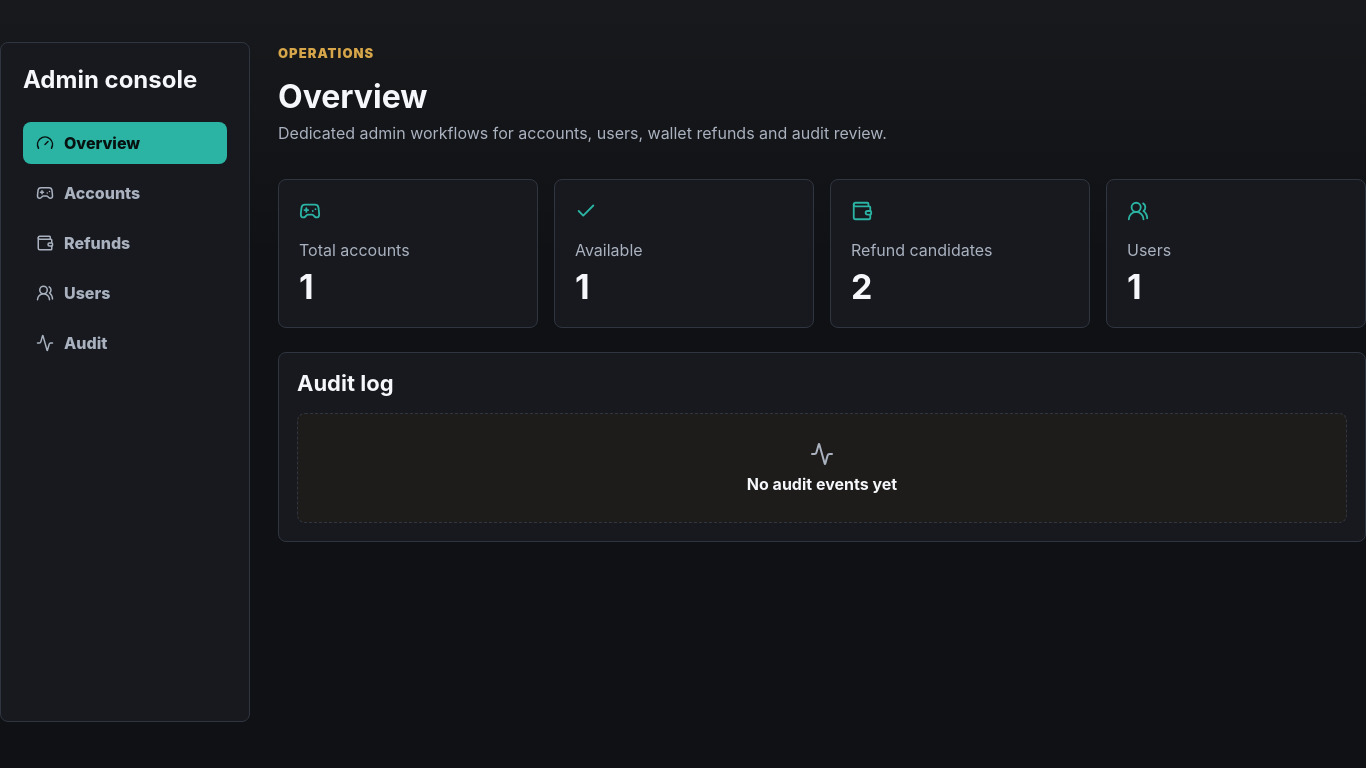
Test case: AdminView wallet refunds › shows detail loading state and clears panel on close
Click the button "Refunds" at coordinates (125, 243), box 23,222 -> 227,264
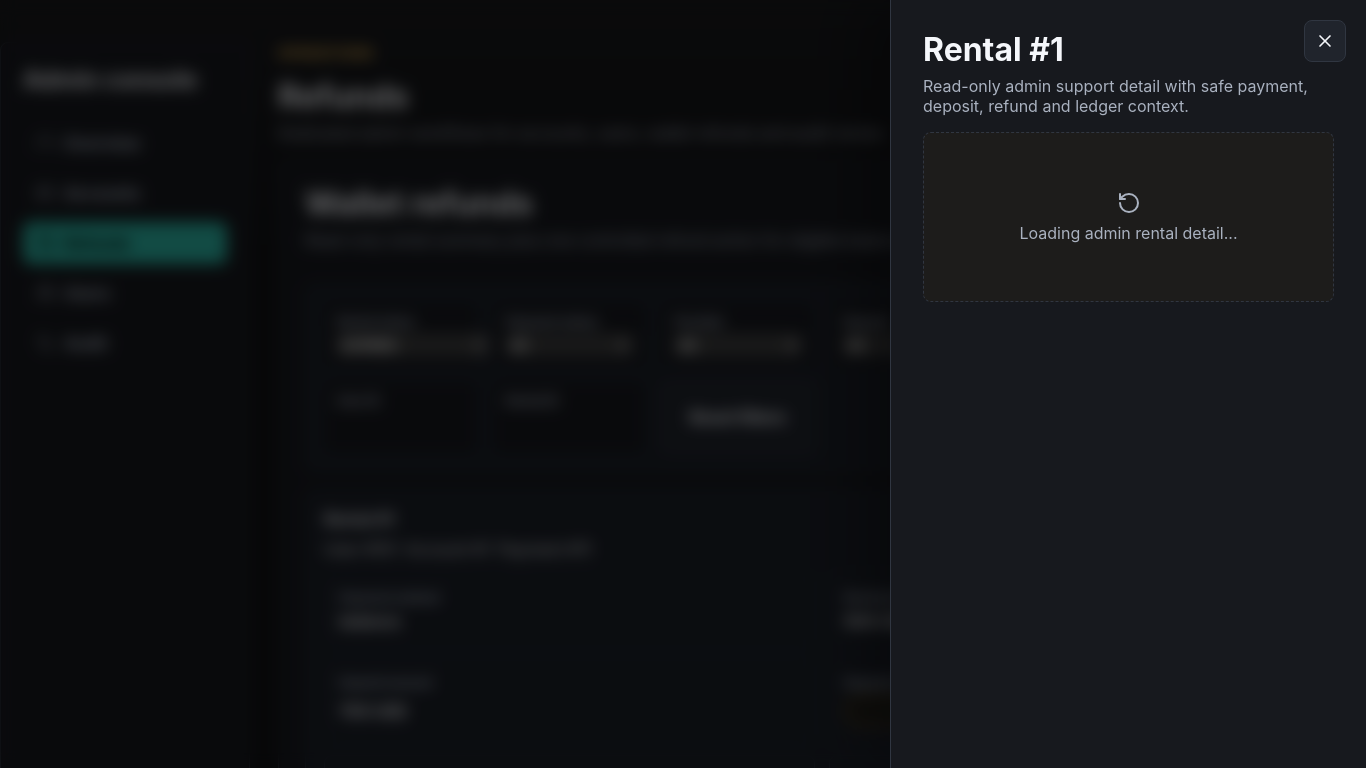
Result: the text "Loading admin rental detail..." is shown at 1020,223 -> 1238,243
Click the button titled "Close detail" at coordinates (1325, 41), box 1304,20 -> 1346,62
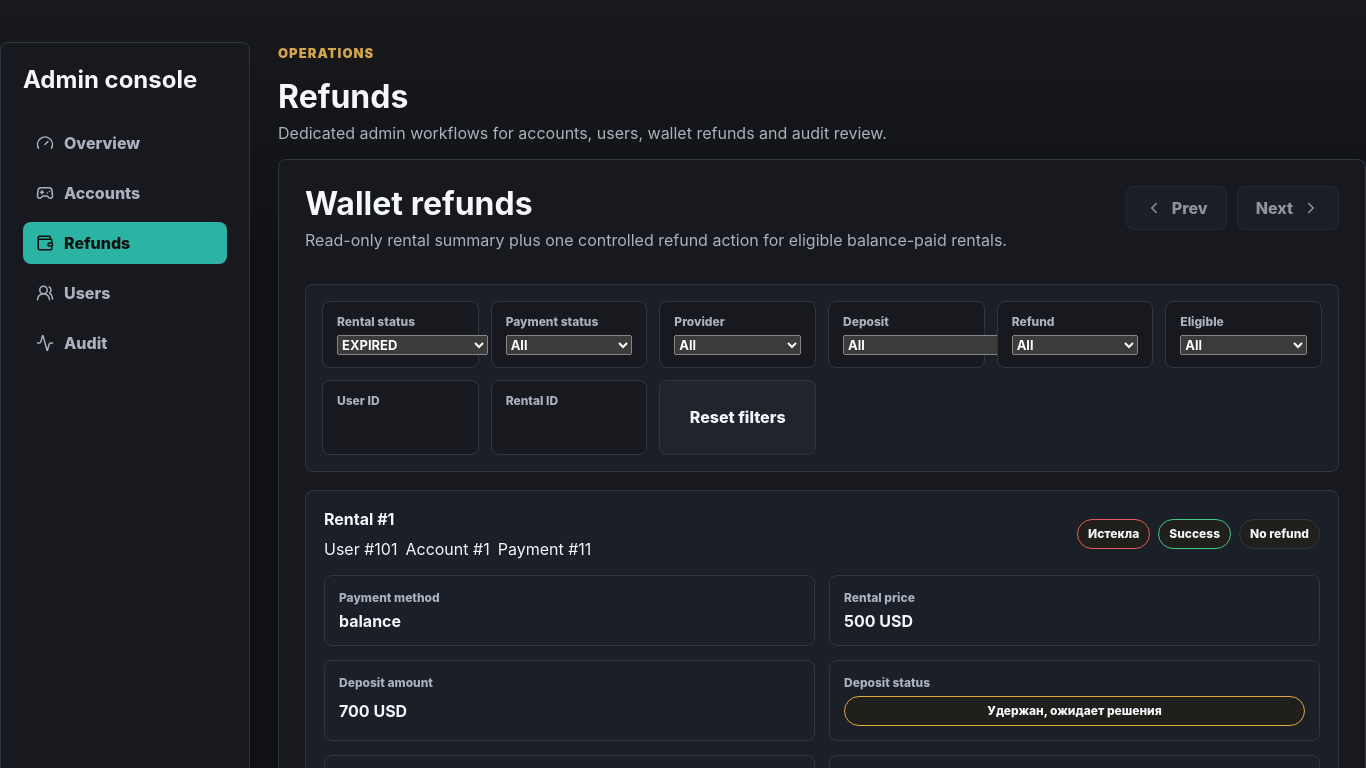
Result: the dropdown named "Rental status filter" shows "EXPIRED" at 337,335 -> 488,355
Result: the text labelled "admin rental detail" is gone
